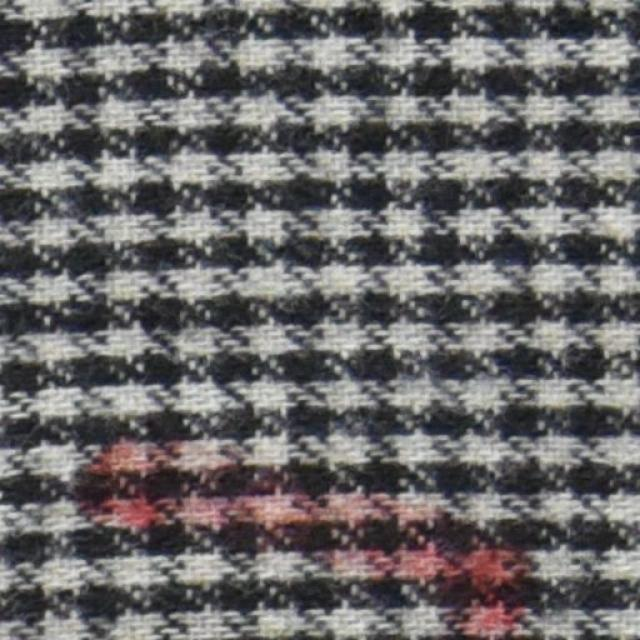Stain: (70, 435, 526, 639)
